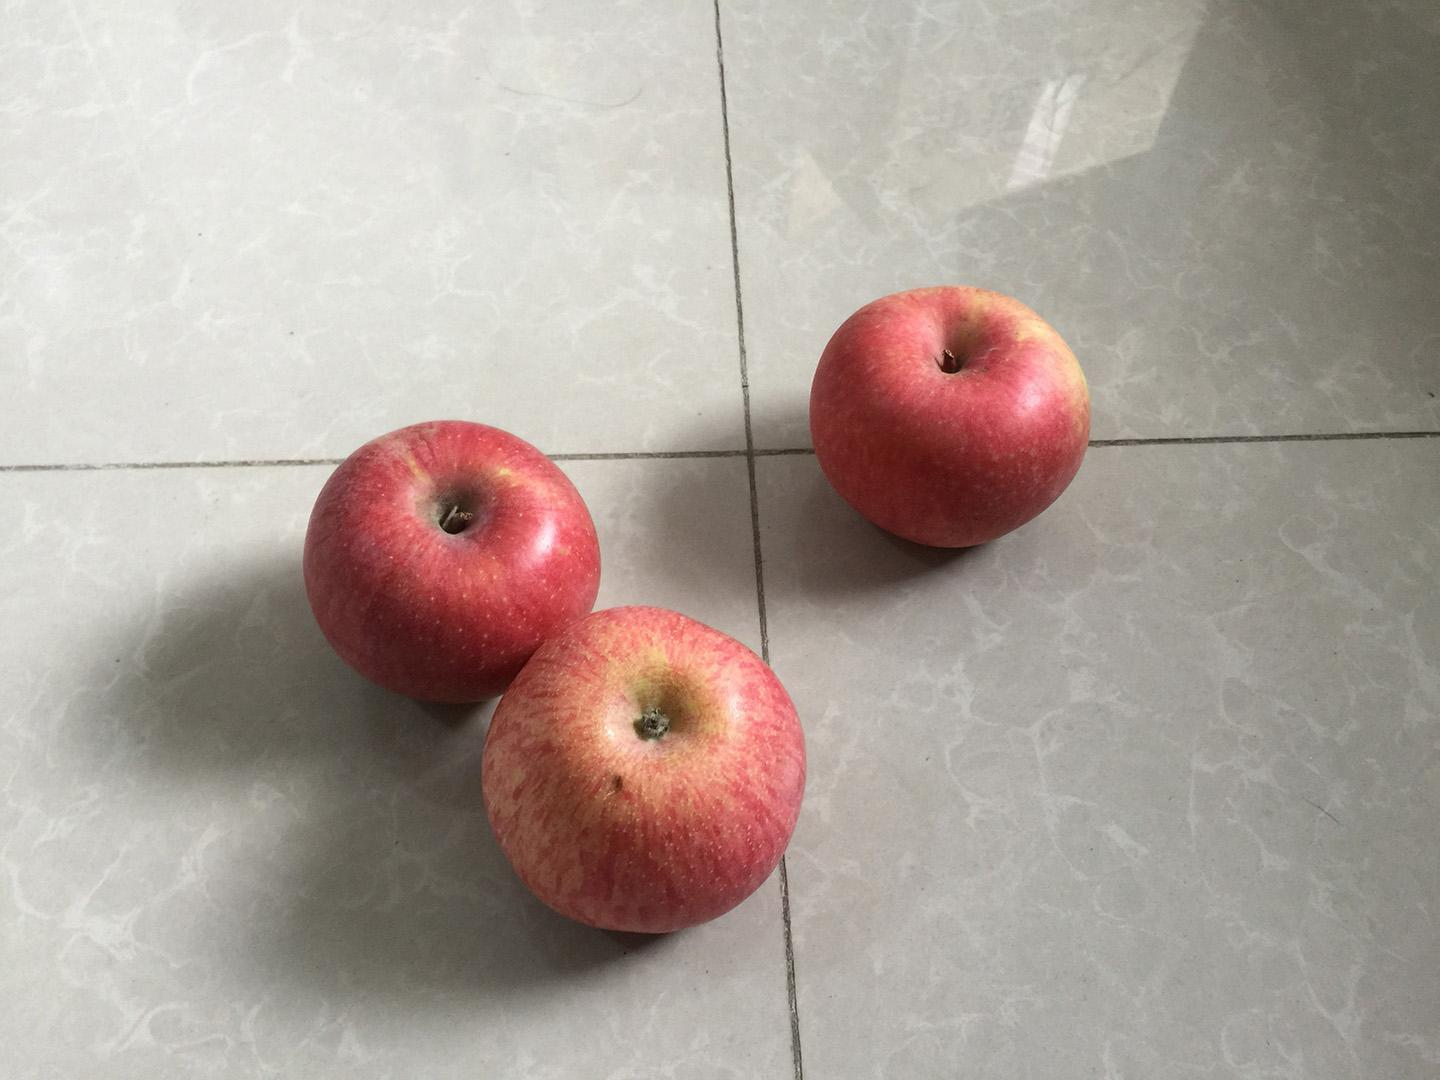apple: (472, 598, 815, 940), (297, 415, 615, 712), (802, 277, 1098, 556)
